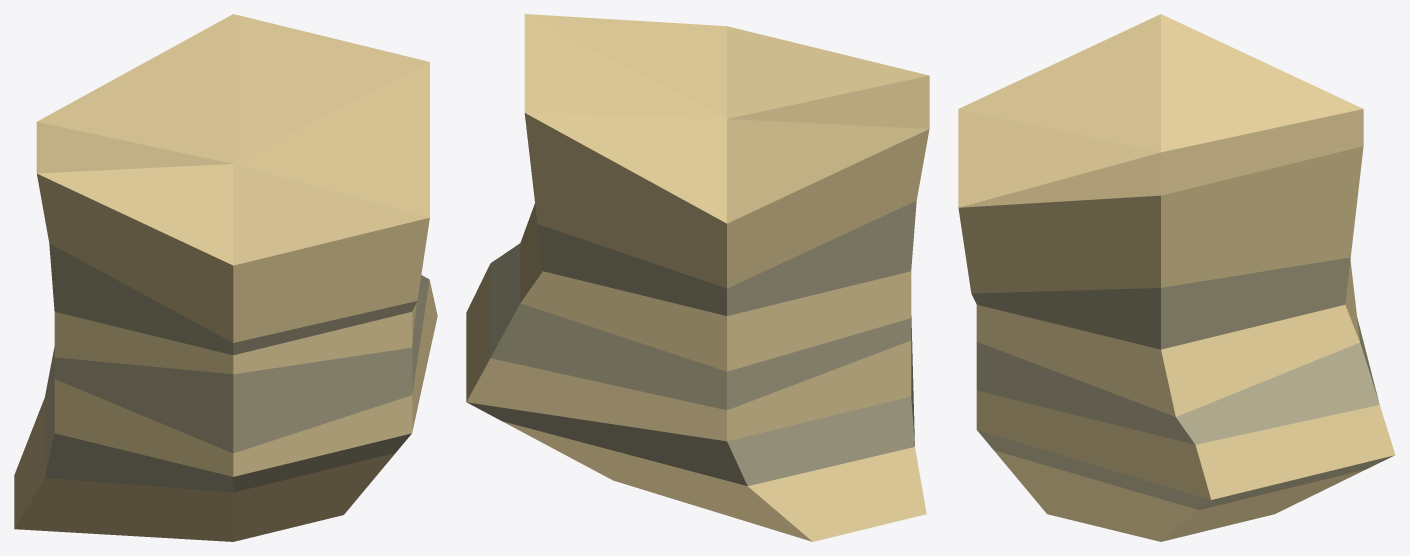
Rendered from cliff.fbx.
The picture shows the model from 3 angles, left to right: view 1: azimuth 30°, elevation 25°; view 2: azimuth 150°, elevation 25°; view 3: azimuth 270°, elevation 25°; orthographic projection. The views are drawn at different scales.
Parts seen in each view (by area): view 1: Cliff; view 2: Cliff; view 3: Cliff.
Part boxes in pixels (x1,y1,x2,y2): Cliff: (14, 14, 437, 541); Cliff: (466, 14, 929, 541); Cliff: (958, 14, 1395, 541).
Size of the model in its own units: 27.97 by 25.53 by 23.61.
